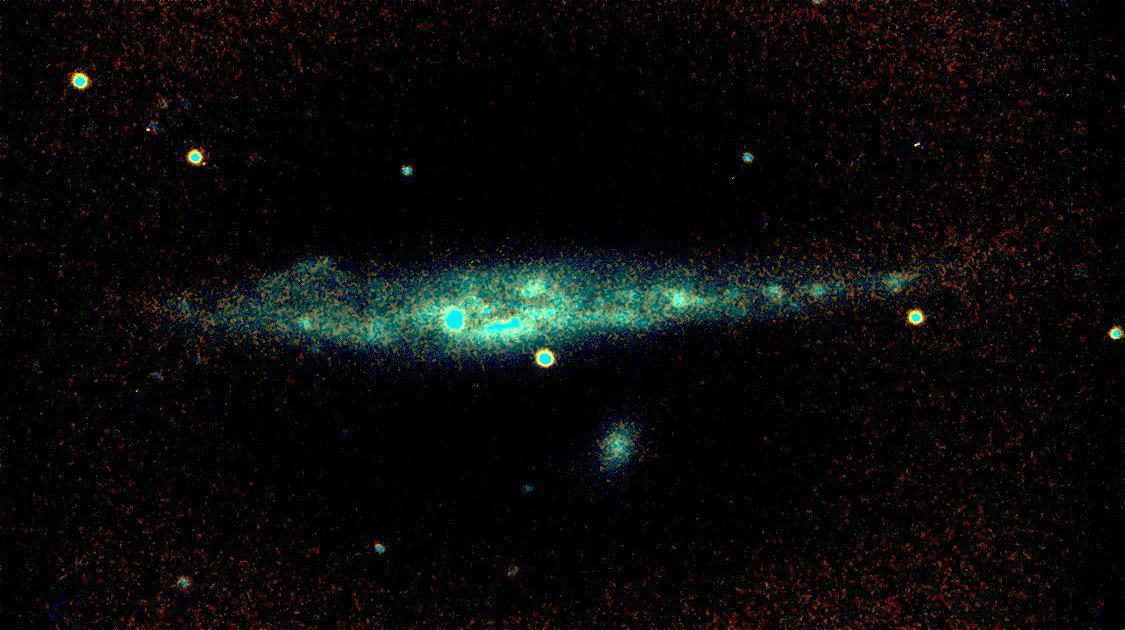star: (900, 131, 930, 161)
